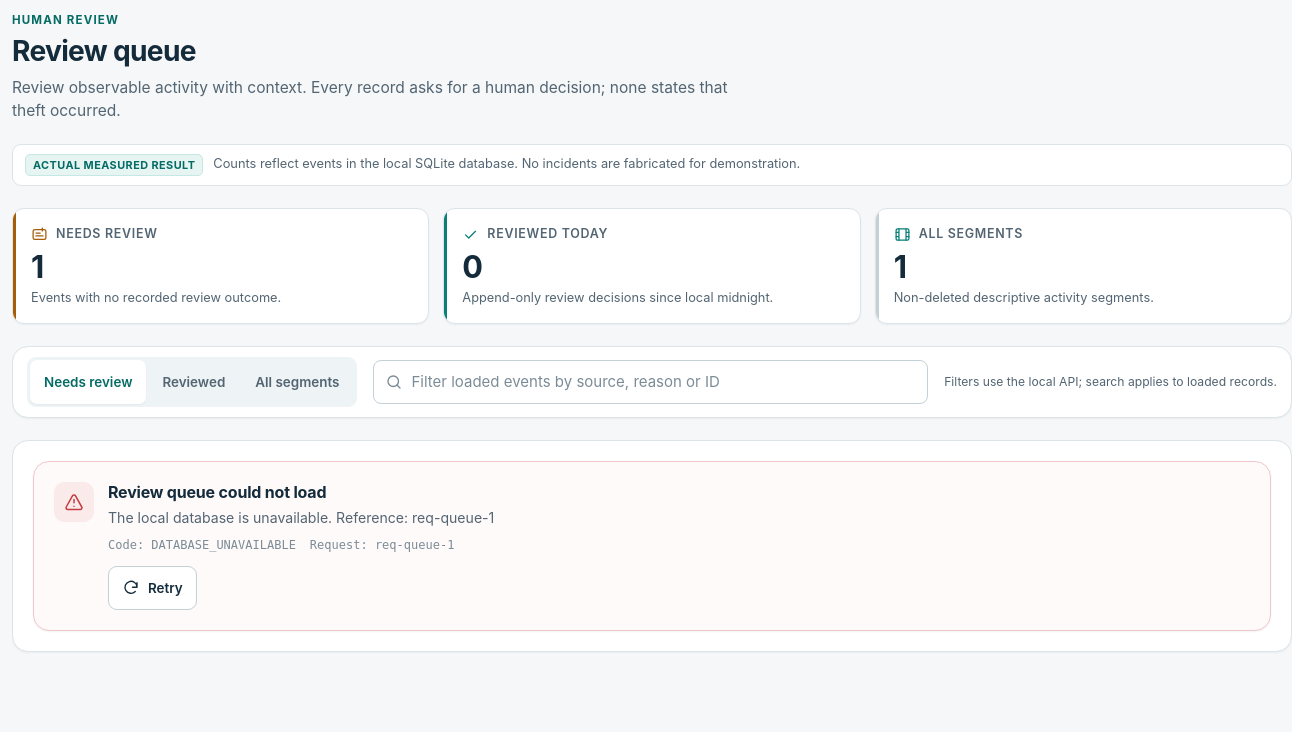
ReviewQueuePage › shows the safe API error and retries the queue request
Expected: the heading "Review queue could not load" is shown, 108,482 -> 326,502
Expected: the text "The local database is unavailable. Reference: req-queue-1" is shown, 108,507 -> 494,528
Click the button "Retry": (152, 588) 108,566 -> 197,610
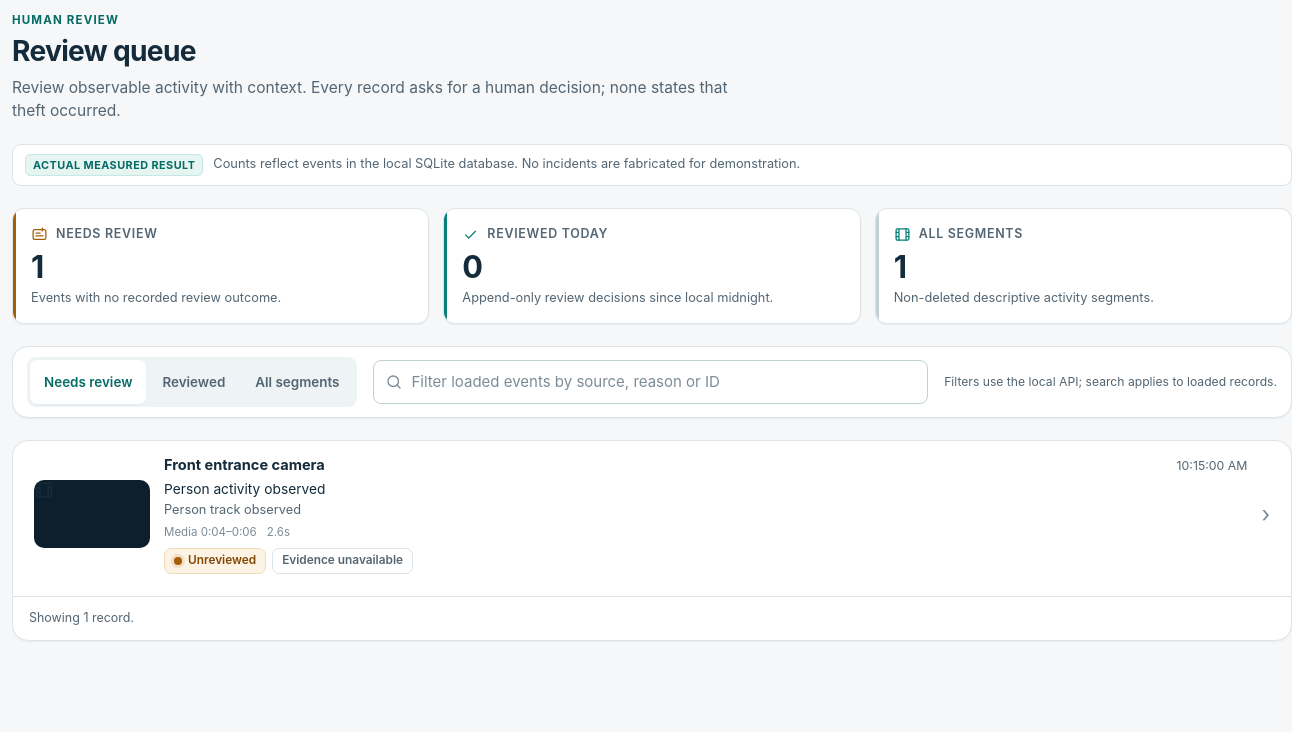
Now the text "Front entrance camera" is shown, box 164,455 -> 325,477
